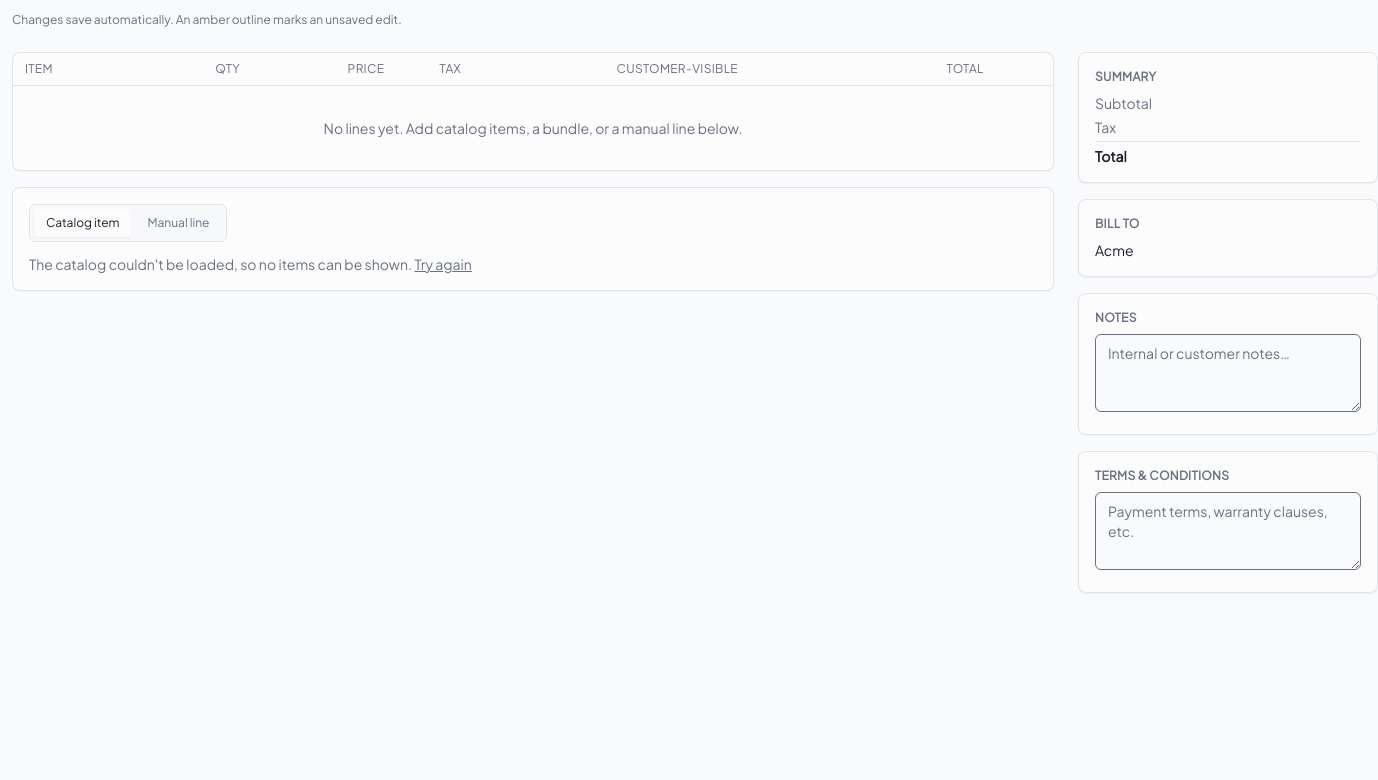
it: InvoiceEditor › tells "catalog is empty" apart from "catalog failed to load", and offers a retry
Expected: the element with test id "invoice-catalog-error" is shown, [29,254,472,274]
Click the button with test id "invoice-catalog-retry" at (443, 264), box [414,254,472,274]
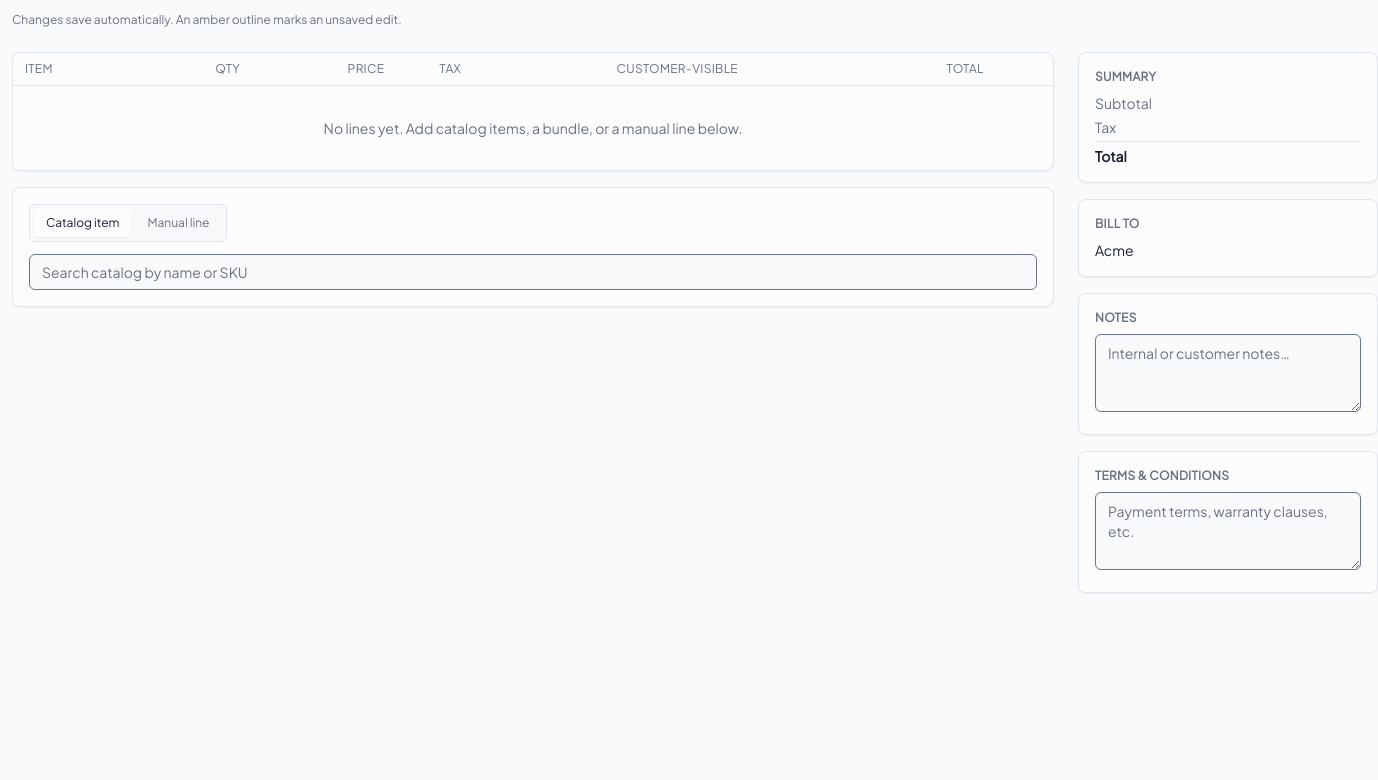
Now the element with test id "invoice-catalog-picker" is shown, box [29,254,1037,290]
Now the element with test id "invoice-catalog-error" is gone
